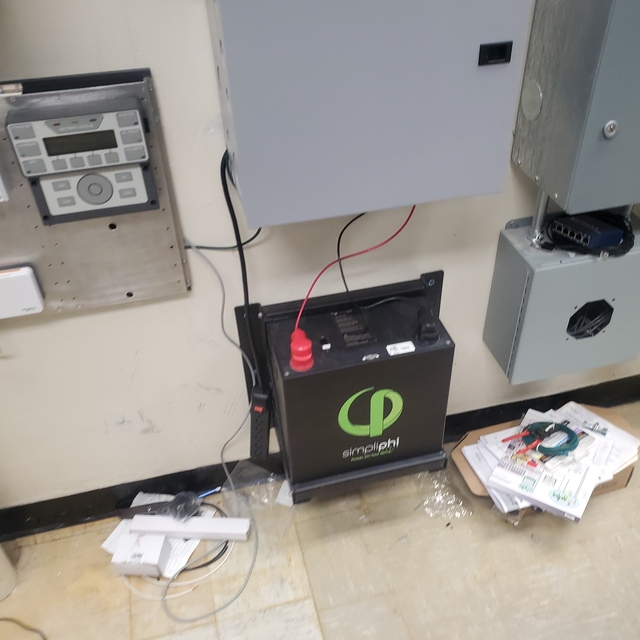battery: (263, 300, 457, 504)
